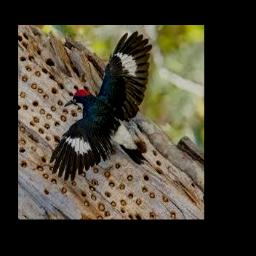Woodpecker: (49, 31, 152, 181)
